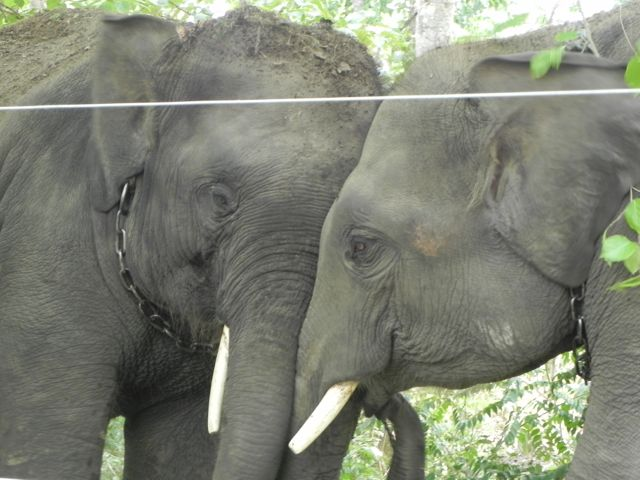elephant: (1, 8, 380, 480), (271, 2, 639, 479)
